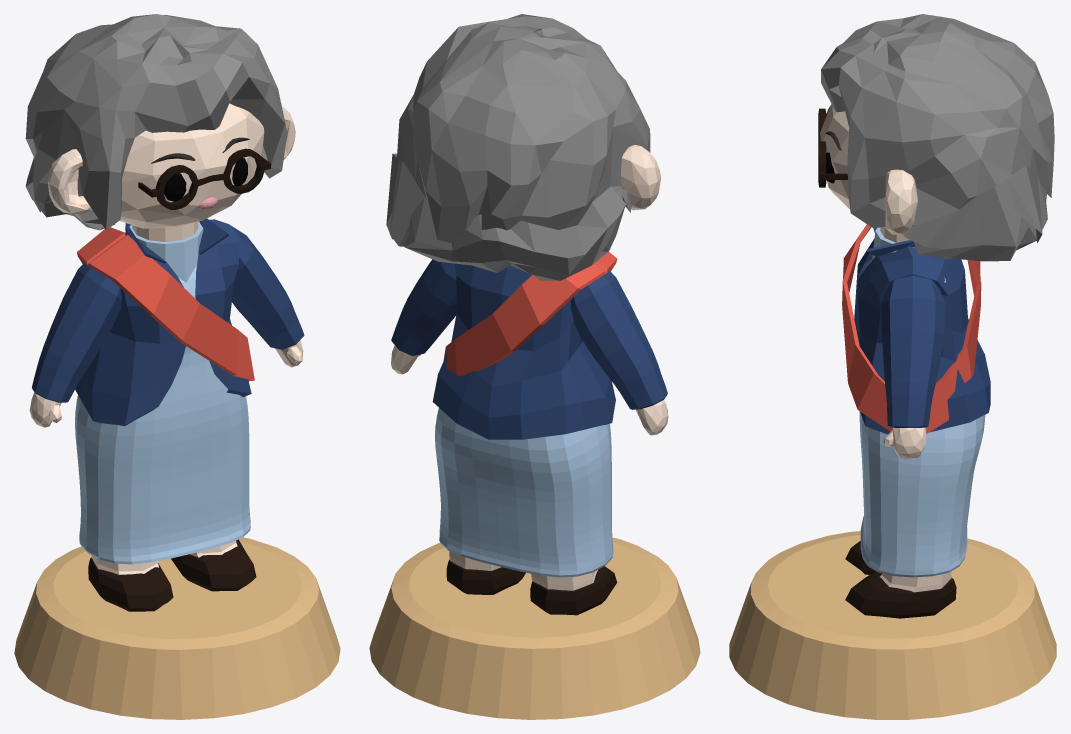
File: marta_diplomatica.fbx
3 views of the same model, side by side, from view 1: azimuth 30°, elevation 25°; view 2: azimuth 150°, elevation 25°; view 3: azimuth 270°, elevation 25° (orthographic).
Visible parts, largest first — view 1: Cylinder.003, Sphere.008, Cube.019, Roundcube.020, Cube.017, Roundcube.019, Plane, Cube.024, Cube.038, Cylinder.012, Cylinder.033, Roundcube.006 (+3 smaller); view 2: Sphere.008, Cylinder.003, Cube.019, Roundcube.020, Cube.017, Plane, Cube.024, Cube.038, Cube.018, Roundcube.006; view 3: Sphere.008, Cylinder.003, Cube.019, Roundcube.020, Cube.017, Plane, Cube.024, Cube.038, Roundcube.019, Roundcube.006, Cube.018, Cylinder.012.
Boxes of the visible parts, x1,y1,x2,y2 form: Cylinder.003: (14, 537, 340, 719); Sphere.008: (25, 14, 287, 230); Cube.019: (75, 265, 250, 564); Roundcube.020: (75, 218, 251, 426); Cube.017: (32, 225, 304, 402); Roundcube.019: (119, 103, 264, 228); Plane: (77, 227, 254, 381); Cube.024: (88, 539, 256, 611); Cube.038: (48, 106, 295, 214); Cylinder.012: (138, 148, 271, 209); Cylinder.033: (129, 221, 203, 282); Roundcube.006: (29, 340, 303, 427); Sphere.008: (386, 14, 650, 280); Cylinder.003: (369, 537, 700, 719); Cube.019: (435, 408, 613, 577); Roundcube.020: (432, 263, 615, 439); Cube.017: (391, 259, 667, 409); Plane: (443, 251, 617, 376); Cube.024: (446, 560, 617, 615); Cube.038: (621, 145, 661, 210); Cube.018: (449, 551, 597, 590); Roundcube.006: (391, 345, 668, 435); Sphere.008: (821, 14, 1054, 261); Cylinder.003: (729, 531, 1056, 719); Cube.019: (859, 259, 985, 577); Roundcube.020: (854, 227, 990, 434); Cube.017: (881, 275, 945, 427); Plane: (842, 224, 981, 433); Cube.024: (845, 541, 956, 618); Cube.038: (885, 169, 917, 234); Roundcube.019: (820, 104, 916, 227); Roundcube.006: (883, 427, 926, 459); Cube.018: (880, 571, 951, 592); Cylinder.012: (818, 108, 847, 187).
Bounding box in the file's own units: 30.12 × 63.49 × 30.12.
